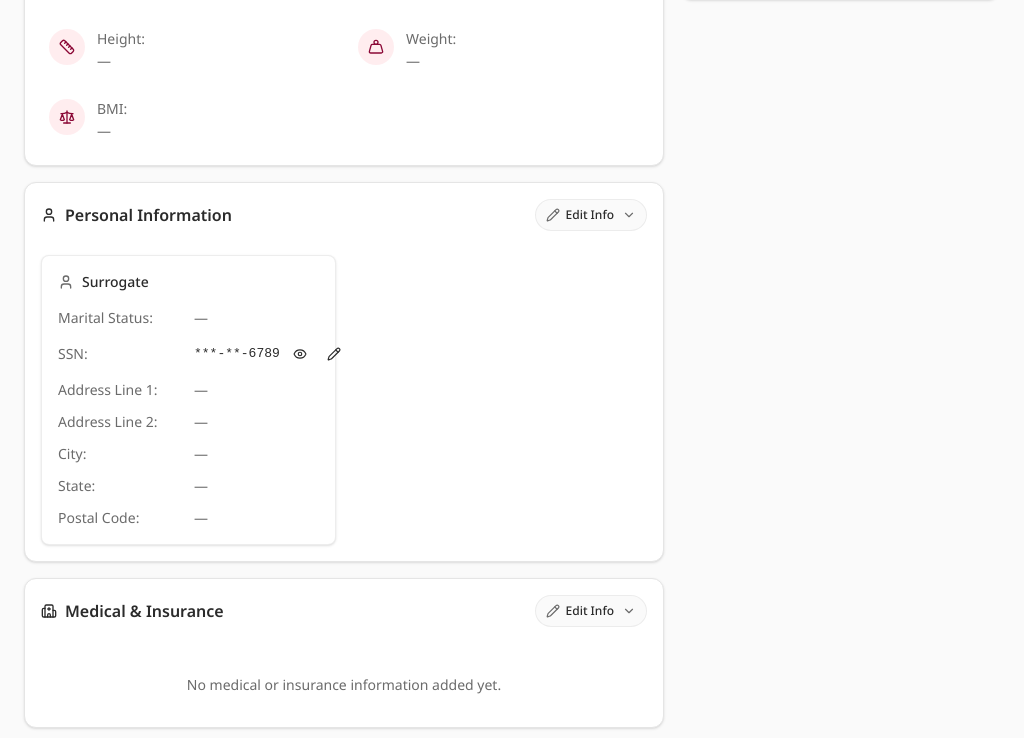
Test case: SurrogateDetailPage › labels SSN edit save and cancel buttons
The image size is (1024, 738).
(page scrolled)
Step 1. Click the button named "Edit surrogate SSN" → (334, 354), box [320,340,348,368]
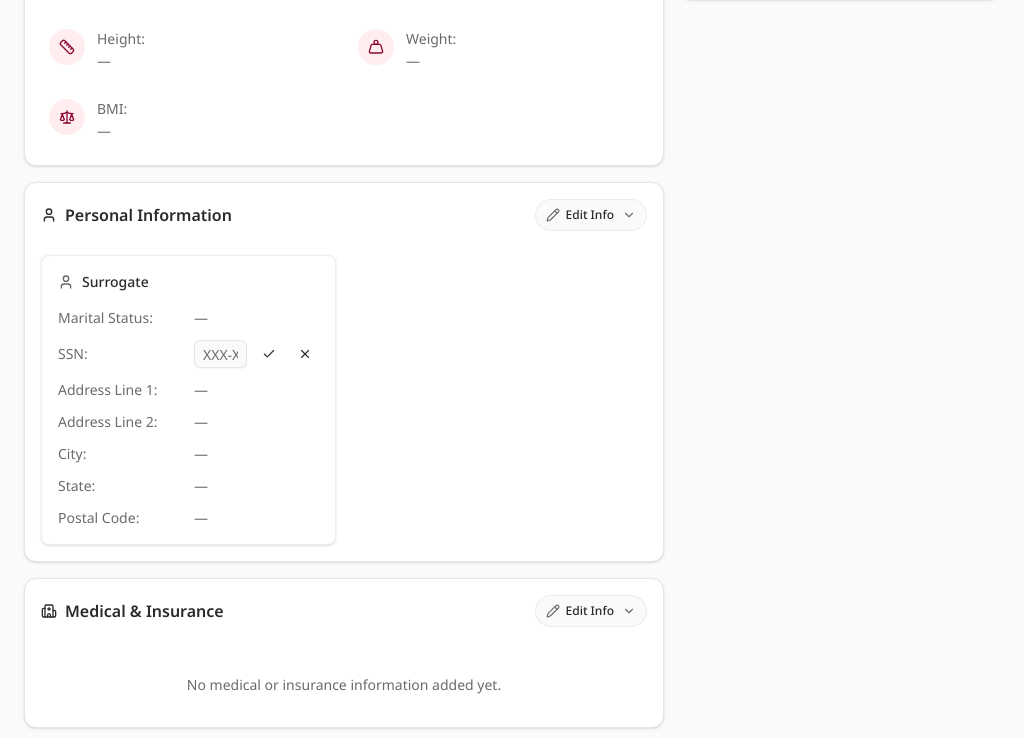
Result: the button named "Save surrogate SSN" is shown at [255,340,283,368]
Result: the button named "Cancel editing surrogate SSN" is shown at [291,340,319,368]
